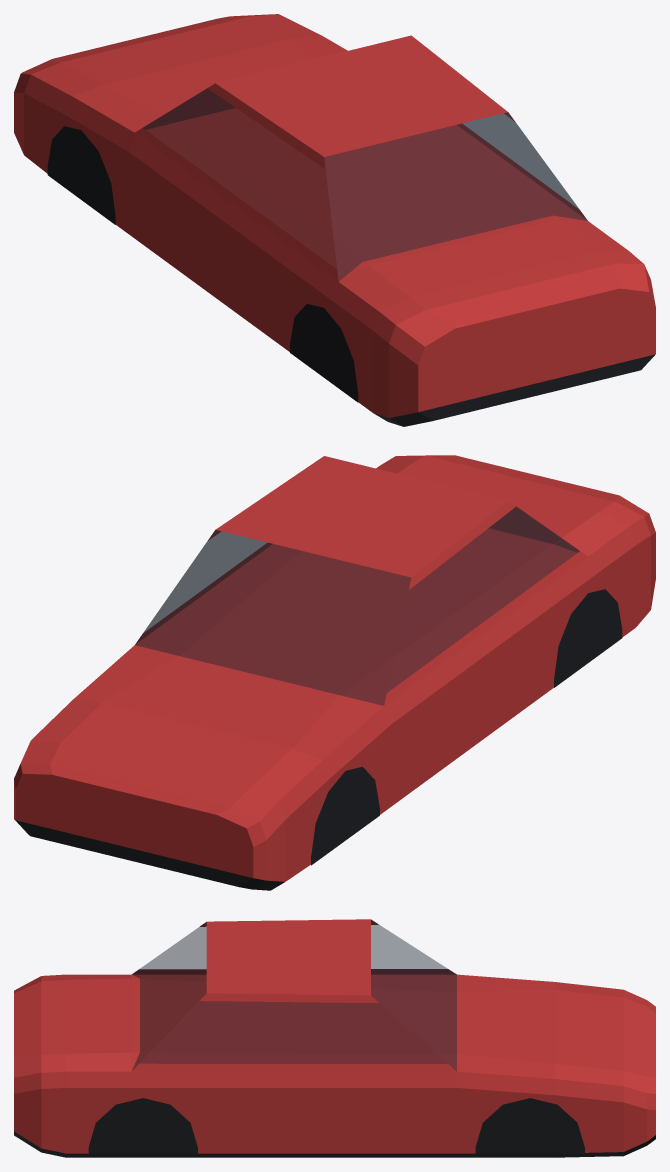
File: sedan_lod.glb
3 views of the same model, one above another, from view 1: azimuth 30°, elevation 25°; view 2: azimuth 150°, elevation 25°; view 3: azimuth 270°, elevation 25° (orthographic). The views are drawn at different scales.
Visible parts, largest first — view 1: Body; view 2: Body; view 3: Body.
Part boxes in pixels (left/top/right/bottom): Body: left=14, top=14, right=655, bottom=426; Body: left=14, top=455, right=655, bottom=890; Body: left=14, top=919, right=655, bottom=1157.
Bounding box in the file's own units: 1.78 × 1.25 × 4.69.
